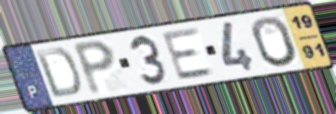3: (129, 33, 167, 88)
4: (220, 20, 259, 74)
D: (33, 46, 84, 101)
E: (159, 26, 218, 83)
O: (249, 15, 300, 69)
P: (70, 38, 118, 98)
